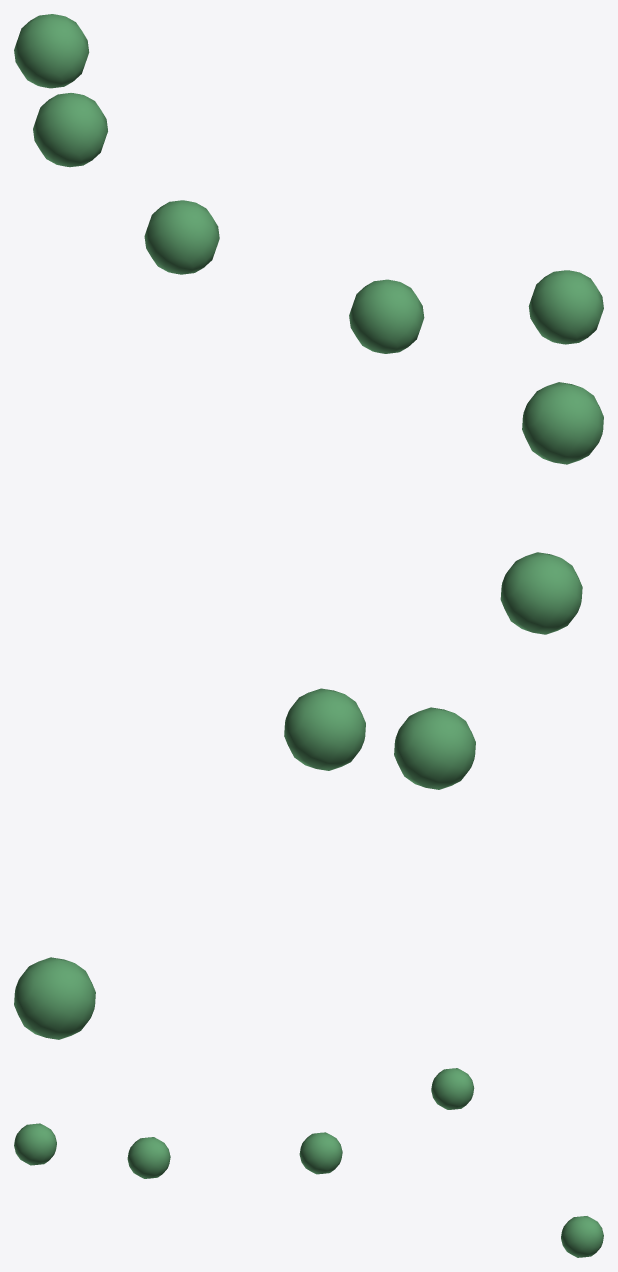
3 views of the same model, one above another, from view 1: azimuth 30°, elevation 25°; view 2: azimuth 150°, elevation 25°; view 3: azimuth 270°, elevation 25° (orthographic). The views are drawn at different scales.
Parts seen in each view (by area): view 1: 右侧颈内静脉上段外侧淋巴结; view 2: 右侧颈内静脉上段外侧淋巴结; view 3: 右侧颈内静脉上段外侧淋巴结.
Boxes of the visible parts, x1=… form: 右侧颈内静脉上段外侧淋巴结: x1=14, y1=14, x2=603, y2=353; 右侧颈内静脉上段外侧淋巴结: x1=14, y1=382, x2=603, y2=1039; 右侧颈内静脉上段外侧淋巴结: x1=14, y1=1068, x2=603, y2=1257.
Bounding box in the file's own units: 0.0125 × 0.0146 × 0.0523.
